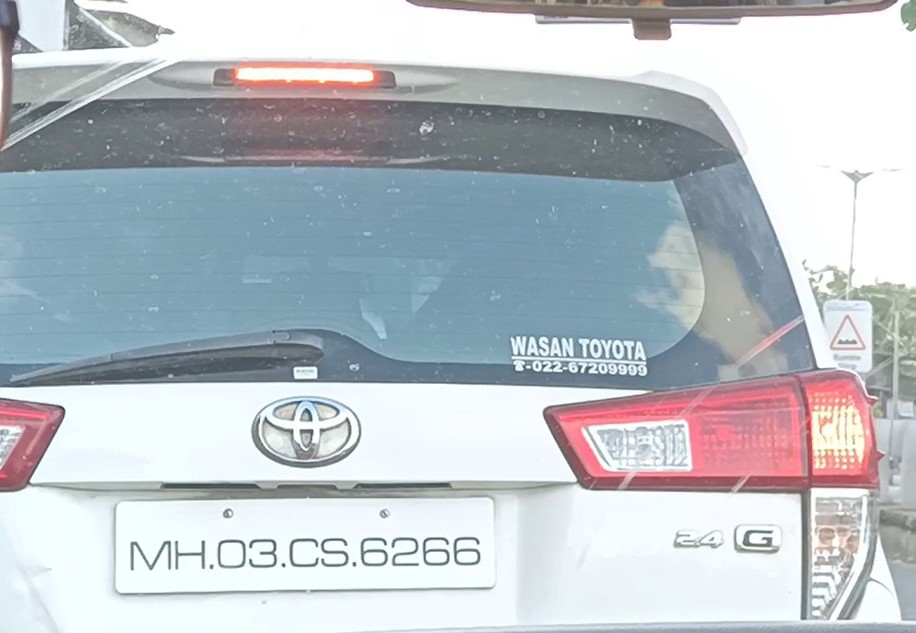MH03CS6266: (111, 493, 497, 595)
